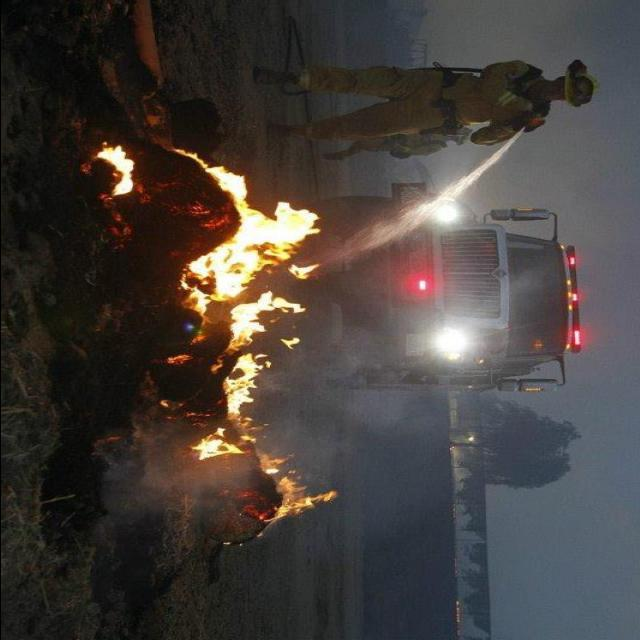Fire: (161, 132, 325, 462), (254, 452, 344, 527), (92, 143, 142, 196)
